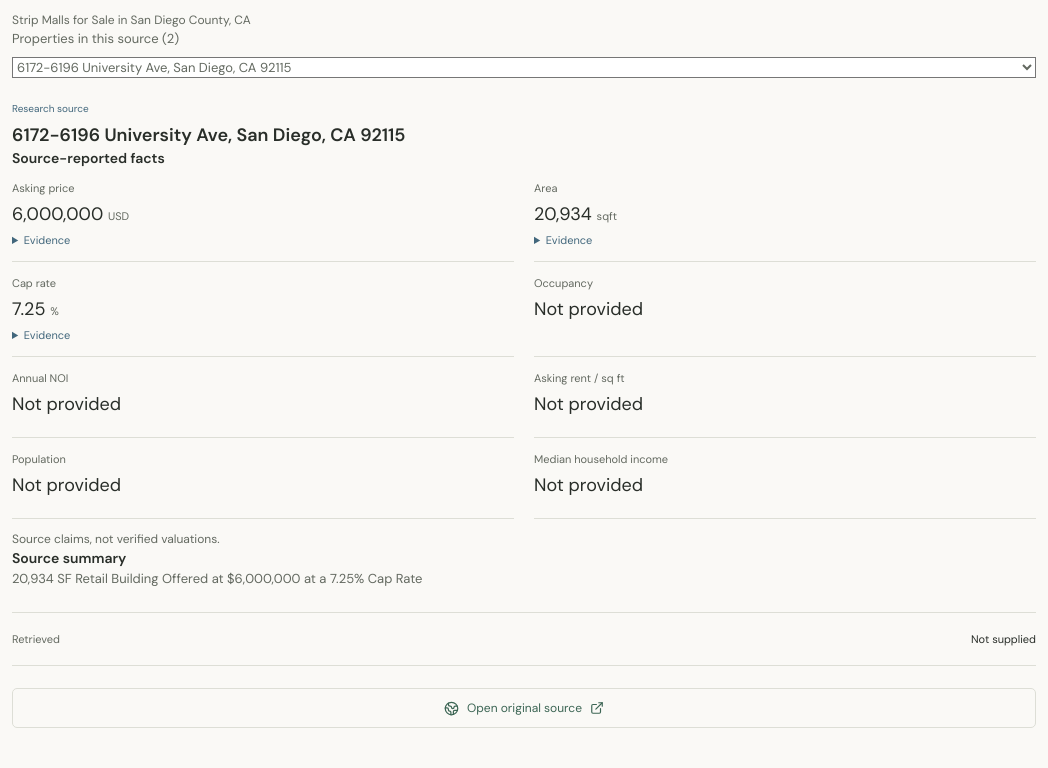
Test: directory property facts › keeps extracted properties through API parsing and never mixes their metrics
Expected: the text "6,000,000" is shown, [12,202,103,226]
Select "2483 Kettner Blvd, San Diego, CA 92101" in the dropdown named "Property from source": (524, 68) [12,57,1036,78]
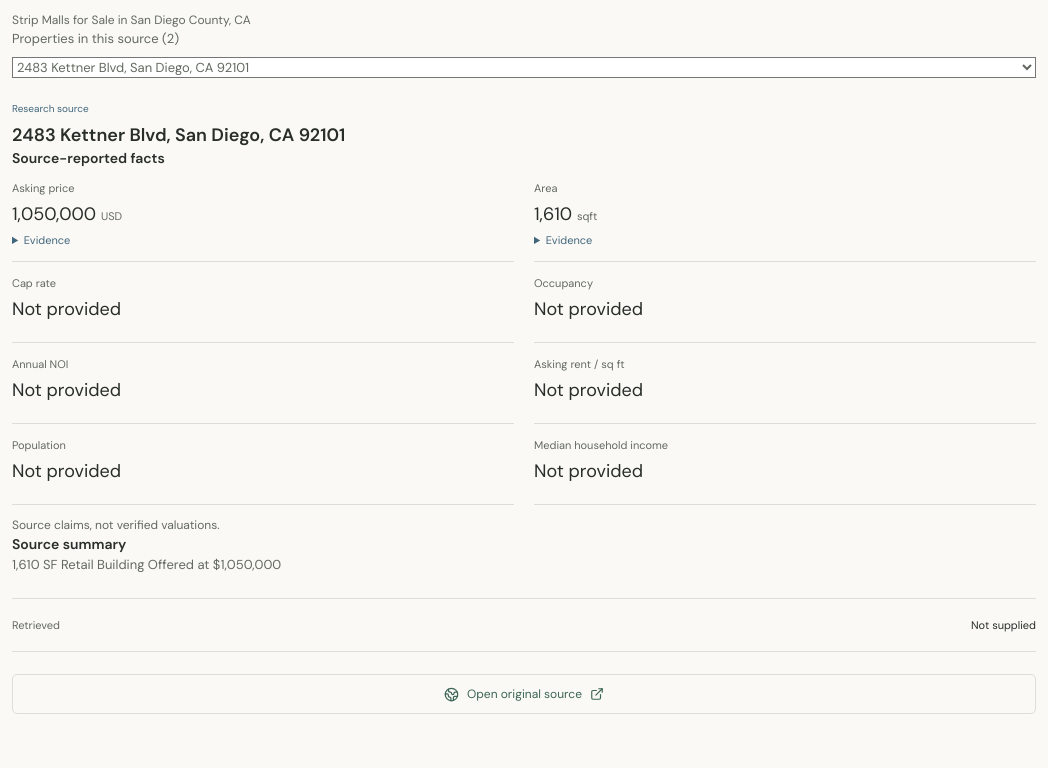
Expected: the text "6,000,000" is gone
Expected: the text "7.25" is gone
